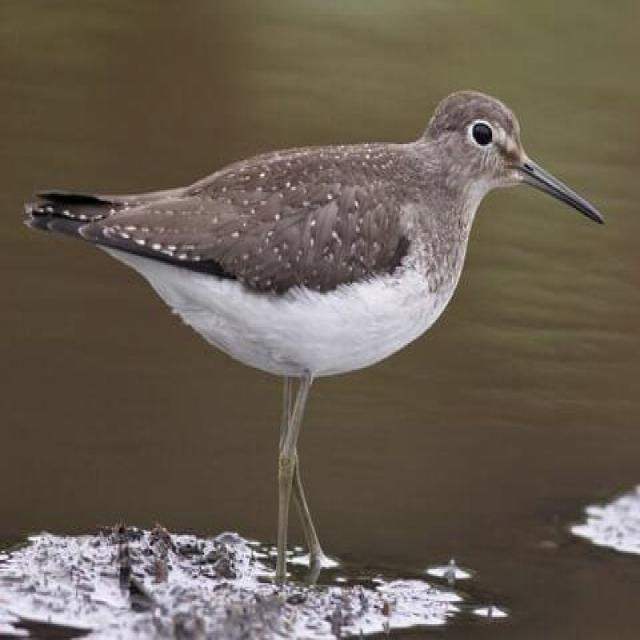sandpiper: (24, 91, 603, 574)
